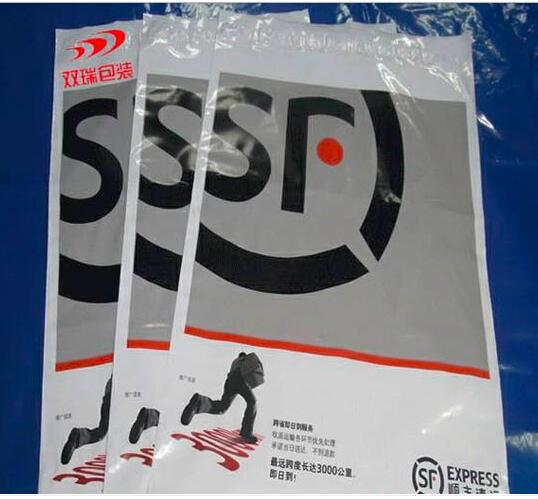Parcel: (147, 19, 507, 493), (104, 17, 213, 493), (38, 22, 140, 494)
